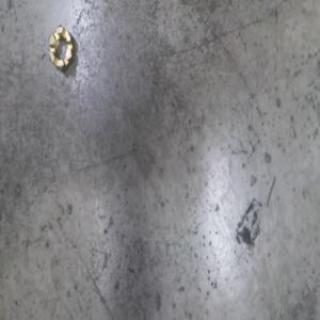Nuttrack_idkeyframe: (46, 23, 75, 75)
